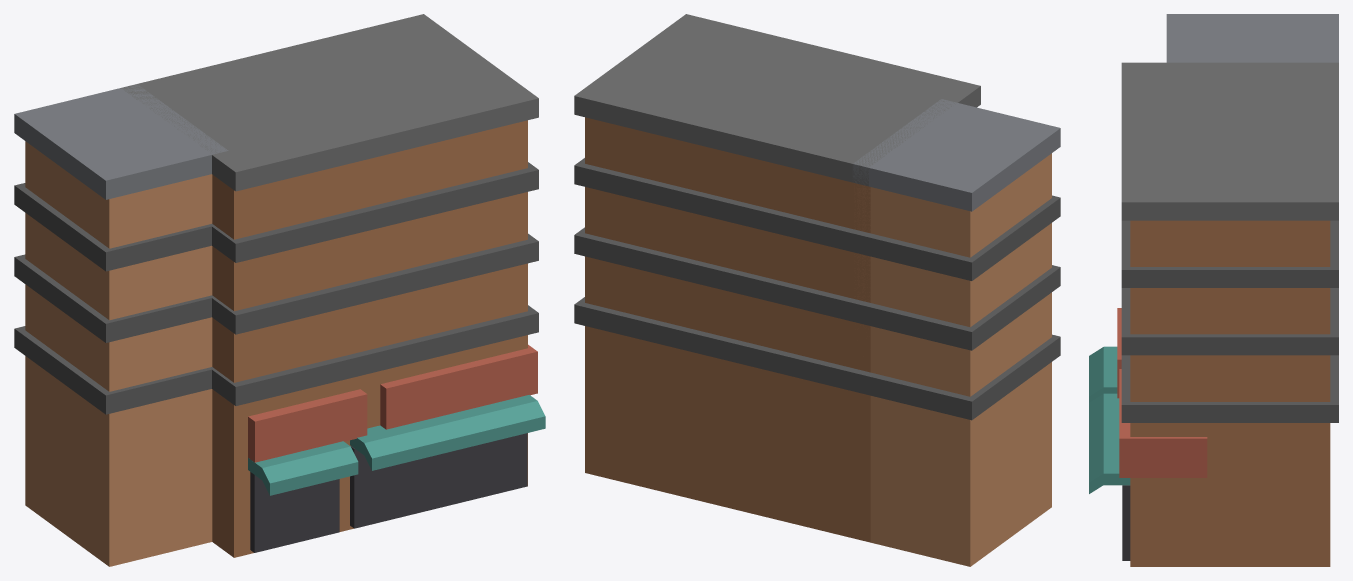
Rendered from Building_04.fbx.
3 views of the same model, side by side, from view 1: azimuth 30°, elevation 25°; view 2: azimuth 150°, elevation 25°; view 3: azimuth 270°, elevation 25° (orthographic). The views are drawn at different scales.
Parts seen in each view (by area): view 1: pCube377; view 2: pCube377; view 3: pCube377.
Boxes of the visible parts, box(x1,y1,x2,y2) form: pCube377: box(14, 14, 545, 566); pCube377: box(574, 14, 1060, 566); pCube377: box(1089, 14, 1338, 566).
Size of the model in its own units: 2.89 by 2.63 by 1.62.
